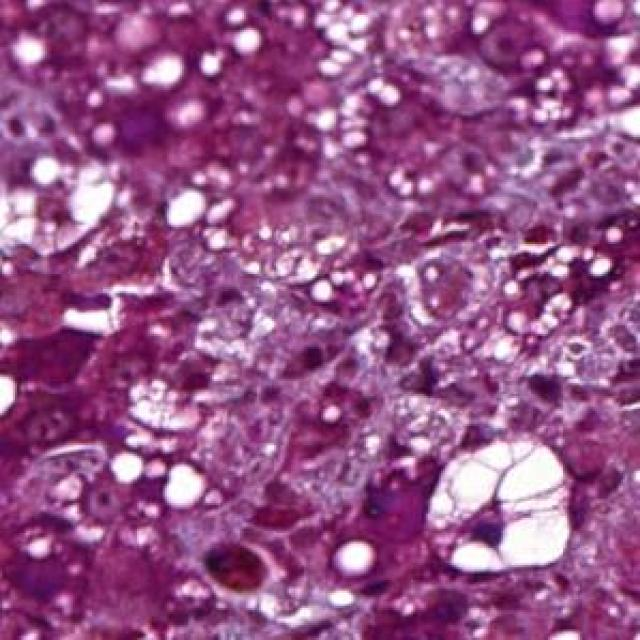ballooning: (424, 432, 578, 582), (0, 146, 124, 263)
